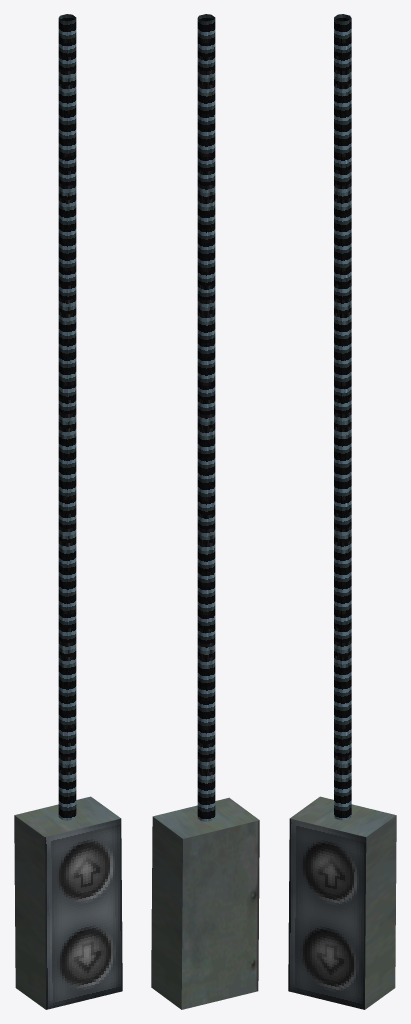
The model's file is ControlSmash.fbx.
3 renders of one model, left to right at view 1: azimuth 30°, elevation 25°; view 2: azimuth 210°, elevation 25°; view 3: azimuth 330°, elevation 25°, orthographic.
Visible parts, largest first — view 1: Plane.004; view 2: Plane.004; view 3: Plane.004.
Part boxes in pixels (x1,y1,x2,y2): Plane.004: (14, 14, 122, 1009); Plane.004: (151, 14, 259, 1009); Plane.004: (288, 14, 396, 1009).
Size of the model in its own units: 7.47 by 90.45 by 5.37.
